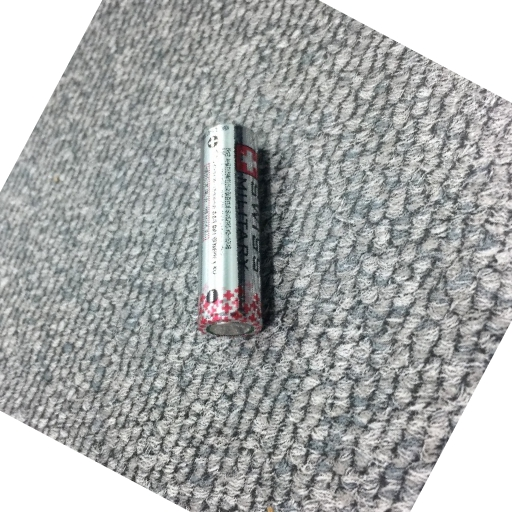Battery_0: (195, 116, 275, 346)
